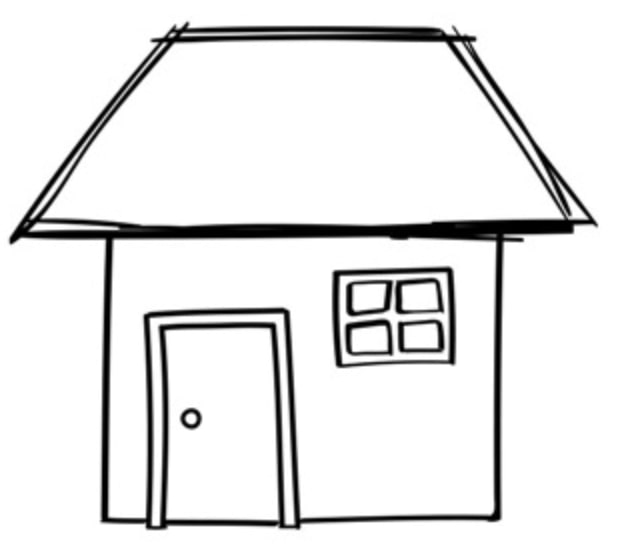House: (7, 10, 603, 530)
